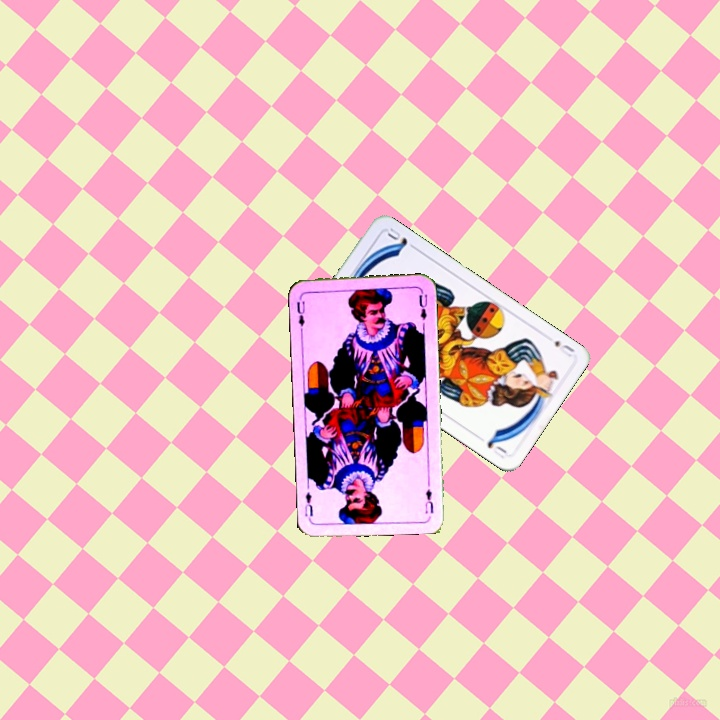EU: (293, 297, 308, 334), (421, 485, 436, 516)
SU: (551, 336, 577, 359)
